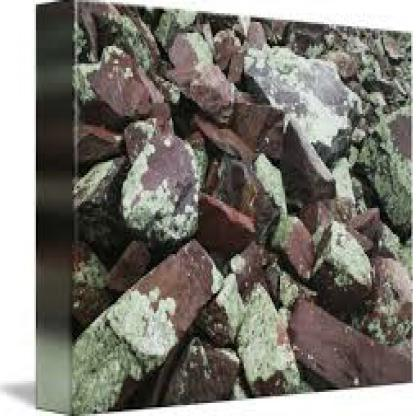Metamorphic_Quartize: (108, 235, 226, 364), (236, 44, 365, 155), (287, 294, 414, 388), (123, 110, 195, 243), (170, 28, 241, 127), (270, 210, 324, 278)
